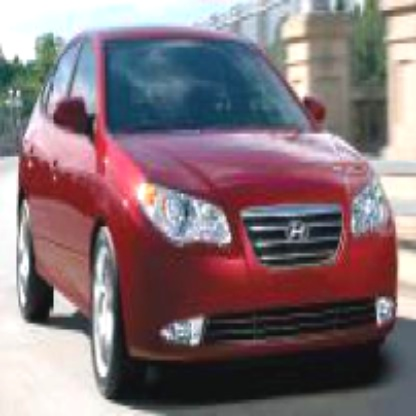Vehicle: (13, 27, 404, 406)
